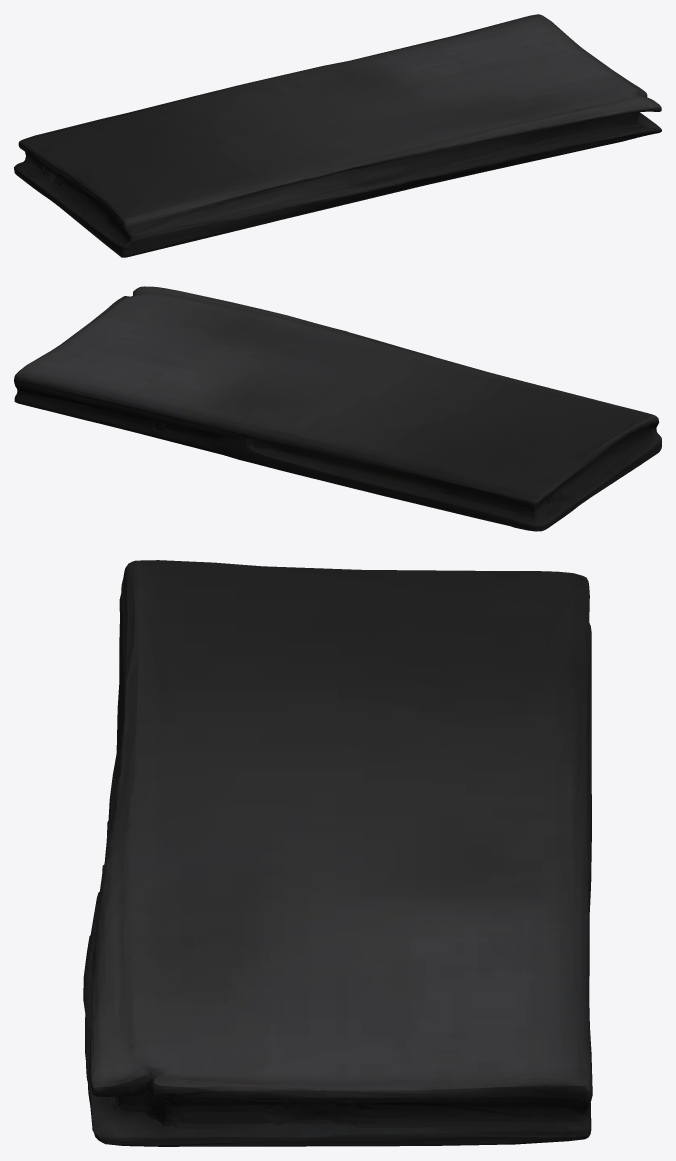
The model's file is mat_black.glb.
3 views of the same model, one above another, from view 1: azimuth 30°, elevation 25°; view 2: azimuth 150°, elevation 25°; view 3: azimuth 270°, elevation 25° (orthographic). The views are drawn at different scales.
Parts seen in each view (by area): view 1: mat_black; view 2: mat_black; view 3: mat_black.
Boxes of the visible parts, x1=… form: mat_black: x1=14, y1=14, x2=661, y2=257; mat_black: x1=14, y1=286, x2=661, y2=531; mat_black: x1=83, y1=560, x2=592, y2=1146.
Bounding box in the file's own units: 0.9999 × 0.0747 × 0.4131.
1 material, 1 textured.
